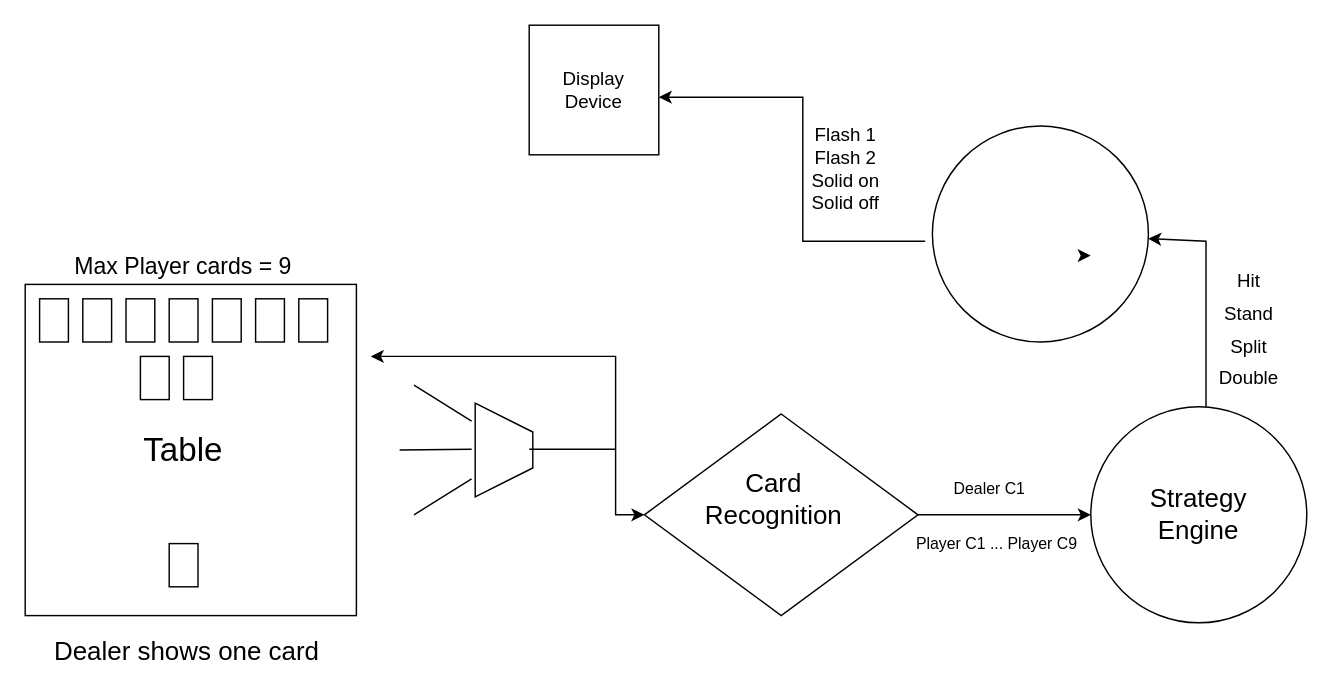
Image size: 1332x698. Some labels were removed from this diagram. Each missing label, with the centre of its shape:
Camera: point (503, 449)
LED Flasher: point (1039, 233)
